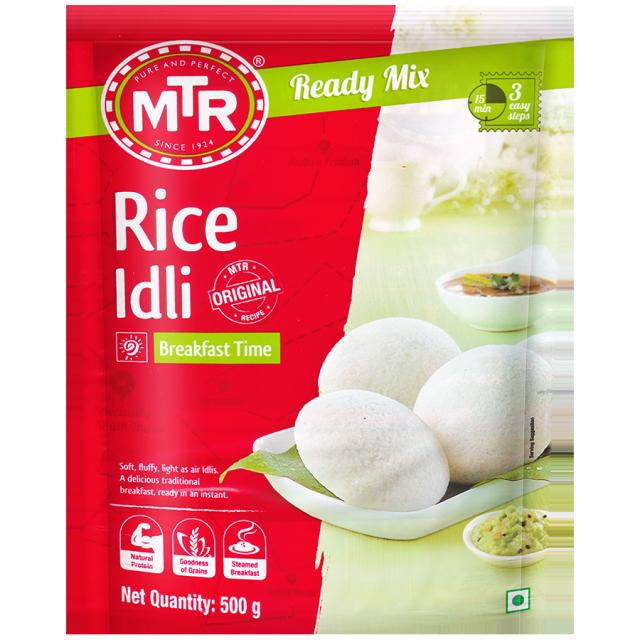chutney: (470, 508, 548, 554)
idli: (296, 387, 447, 513), (411, 341, 549, 474), (315, 320, 471, 424)
